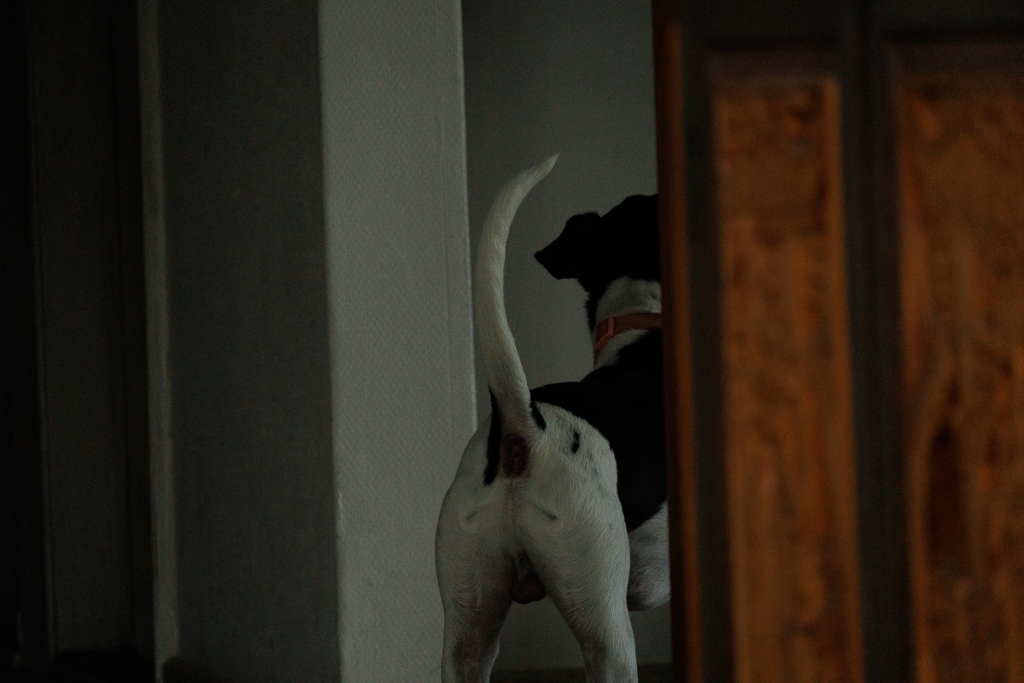Dog: (424, 147, 685, 683)
